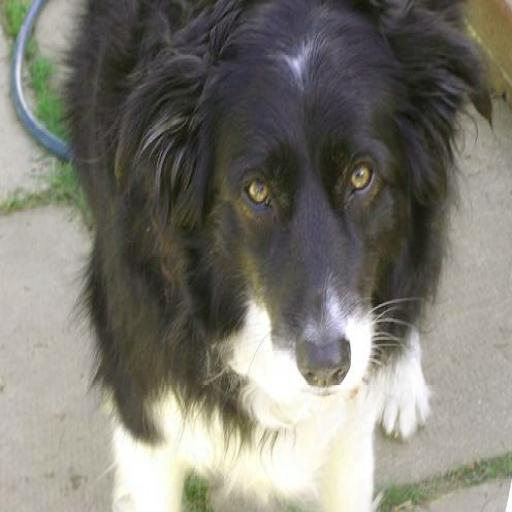dog_face: (124, 2, 485, 410)
